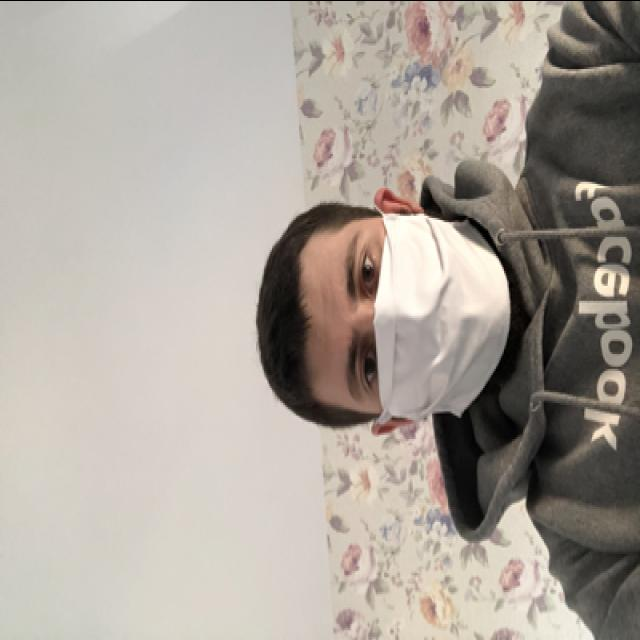mask: (327, 208, 508, 418)
